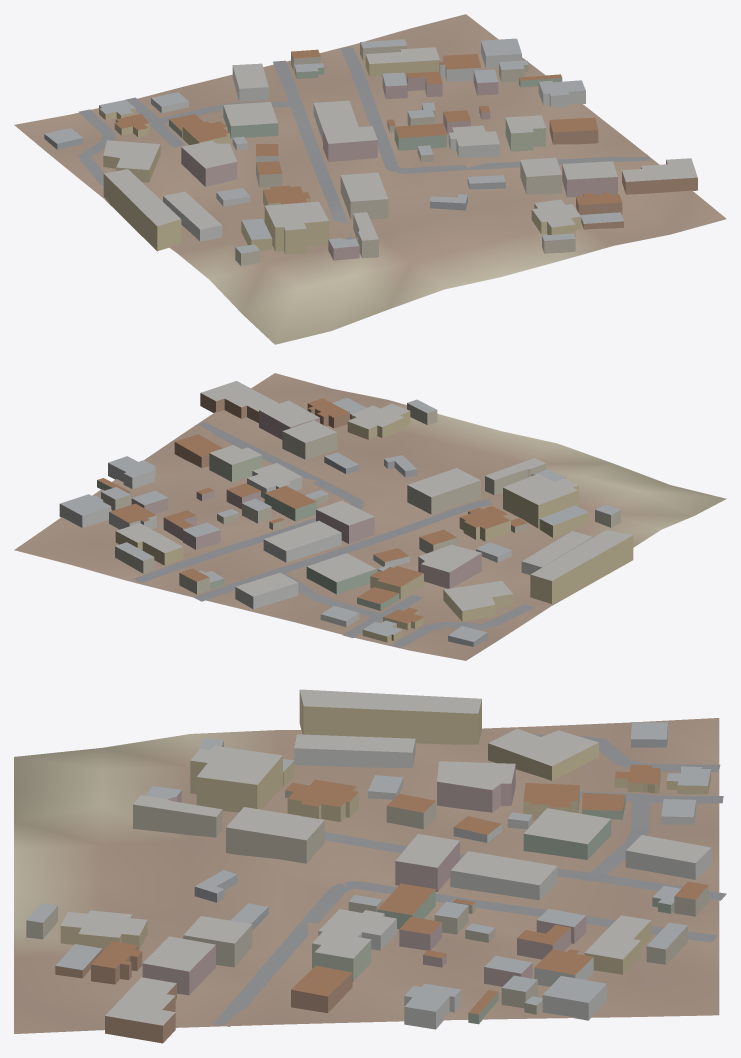
3 renders of one model, top to bottom at view 1: azimuth 30°, elevation 25°; view 2: azimuth 150°, elevation 25°; view 3: azimuth 270°, elevation 25°, orthographic. The views are drawn at different scales.
Visible parts, largest first — view 1: Lo; view 2: Lo; view 3: Lo.
Part boxes in pixels (x1=…): Lo: x1=14, y1=14, x2=726, y2=344; Lo: x1=14, y1=373, x2=726, y2=660; Lo: x1=14, y1=689, x2=726, y2=1043.
Bounding box in the file's own units: 274 × 24.18 × 259.
